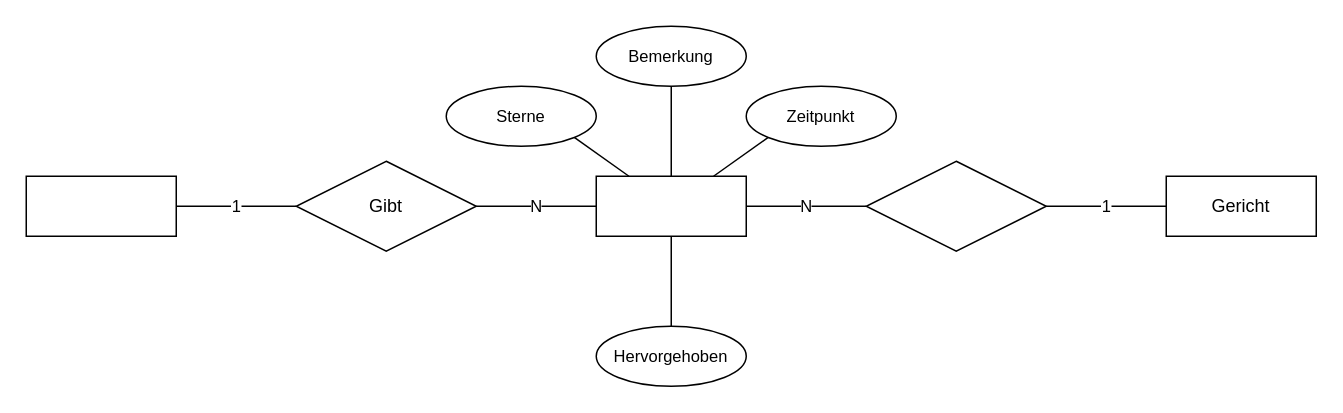
Some shapes in this 1343 by 413 pixel diagram are drawn without their labels. Each missing label, with the centre of its shape:
"Benutzer" belongs at pixel 100 205.
"Bewertung" belongs at pixel 670 205.
"Für" belongs at pixel 955 205.
